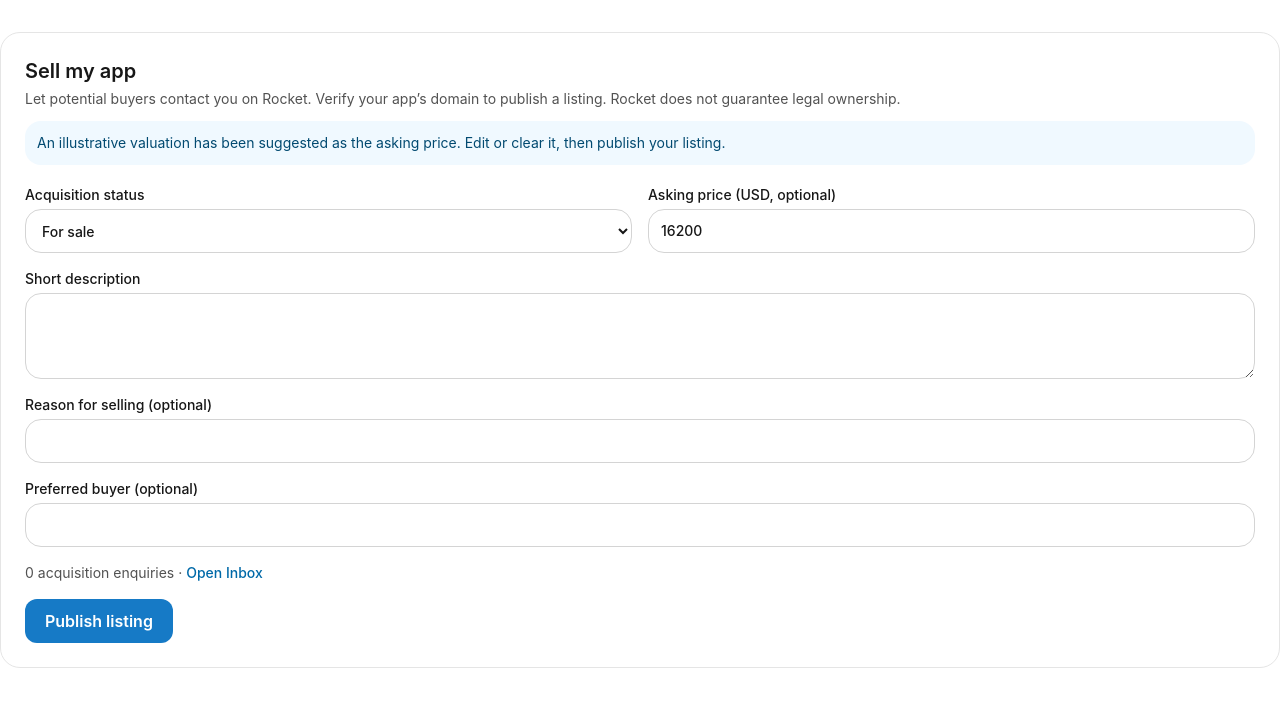
selling after a valuation › prefills a new USD listing and publishes it for a verified owner
Expected: the heading "Sell my app" is shown, [25,59,136,83]
Expected: the dropdown labelled "Acquisition status" shows "For sale", [25,209,632,253]
Step 1. Click the button "Publish listing" → point(99, 621), box [25,599,173,643]
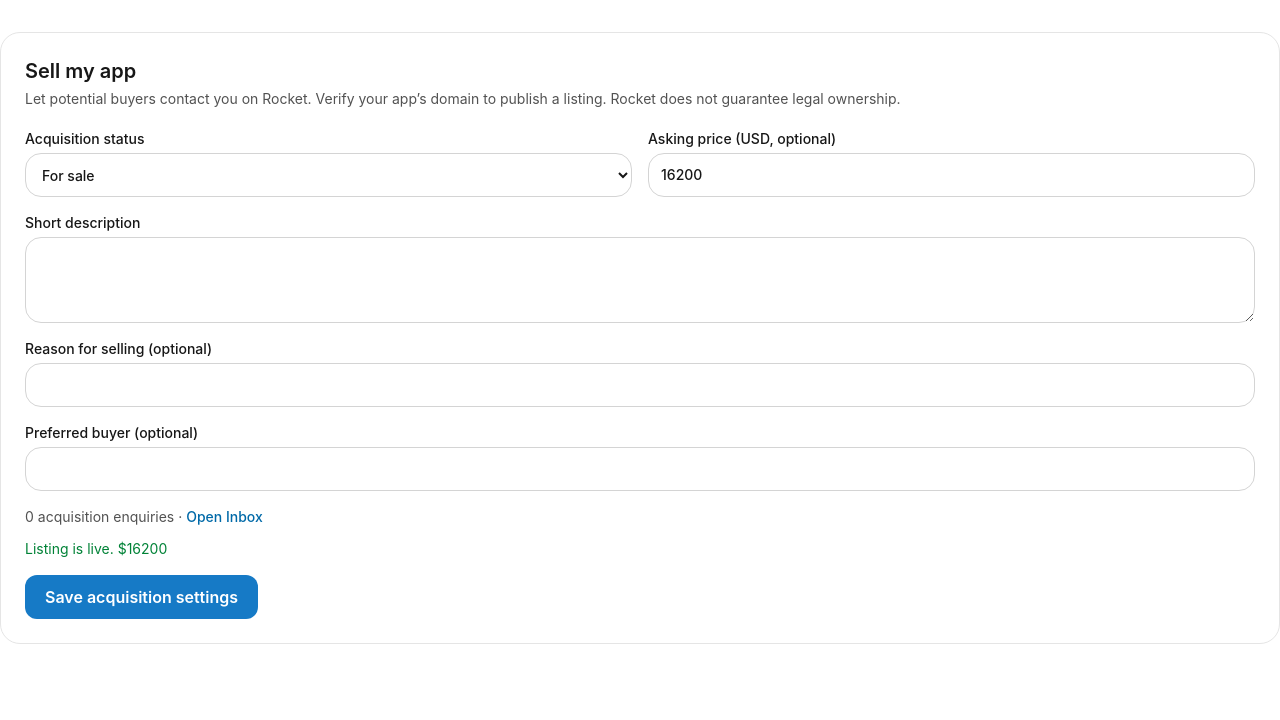
Now the message shows "Listing is live", box [25,540,167,557]
